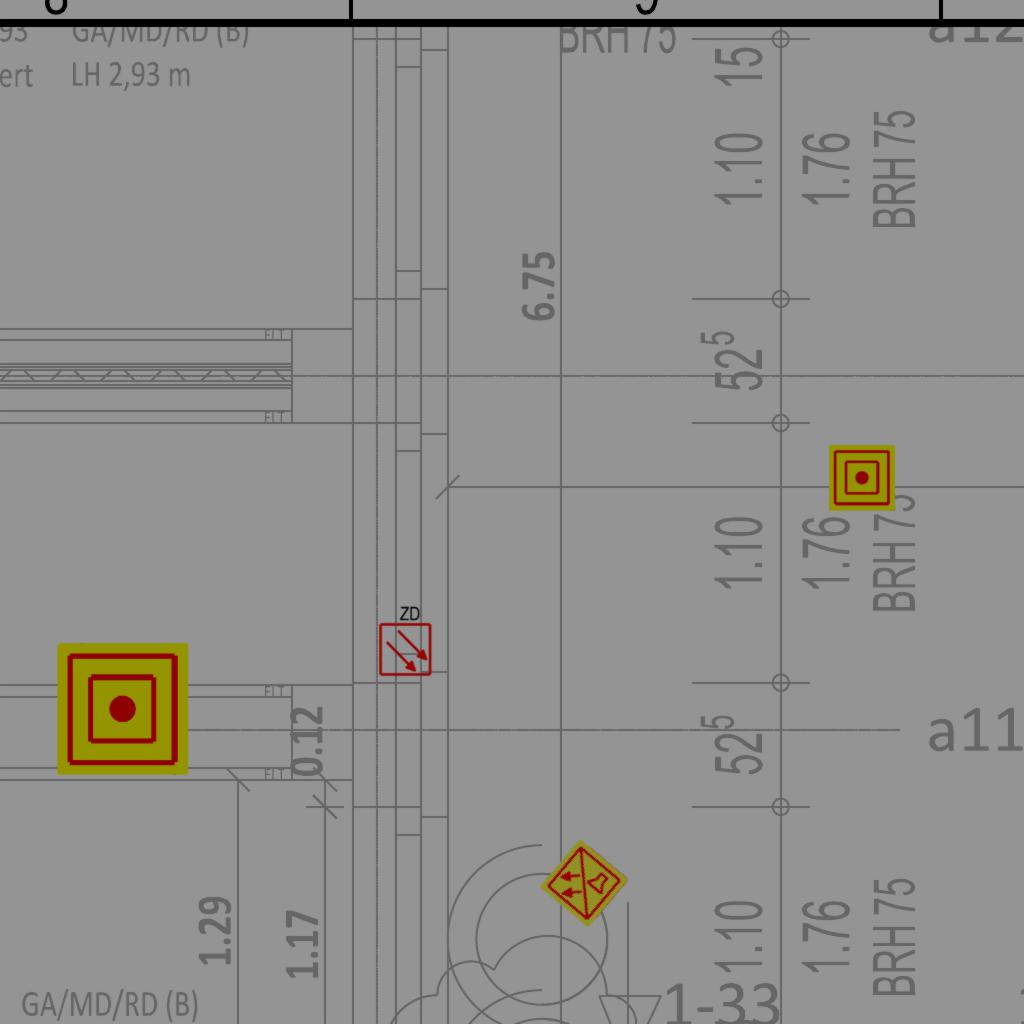NAM-Nichtautomatischer_Melder: (57, 643, 189, 775), (829, 445, 895, 511)
OKW_Multisensormelder_(Kombination_optischer_Rauch-Kahlenmonoxid_Waerme-Melder): (537, 836, 631, 930)
ZD_Melder_in_Zwischendecke_mit_Revisionsoeffnung_mind_40_x_40_cm: (376, 603, 433, 677)
